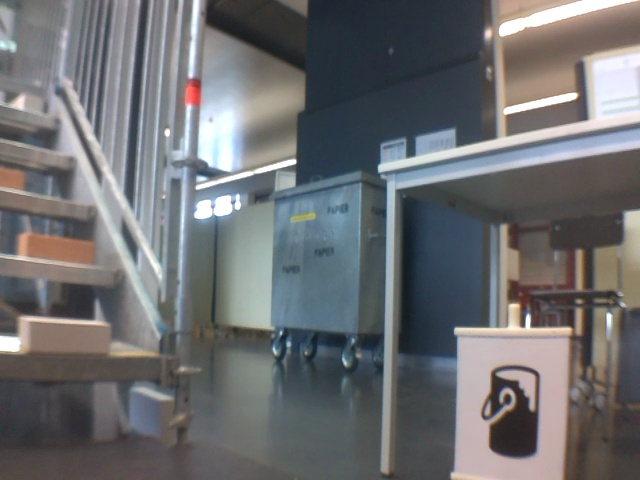brick: (18, 318, 109, 352), (19, 234, 93, 262), (0, 169, 25, 191), (9, 94, 42, 110)
bucket: (469, 362, 549, 462)
edge: (1, 353, 161, 378), (1, 259, 120, 284), (0, 192, 94, 221), (0, 141, 77, 172), (0, 104, 63, 134)
